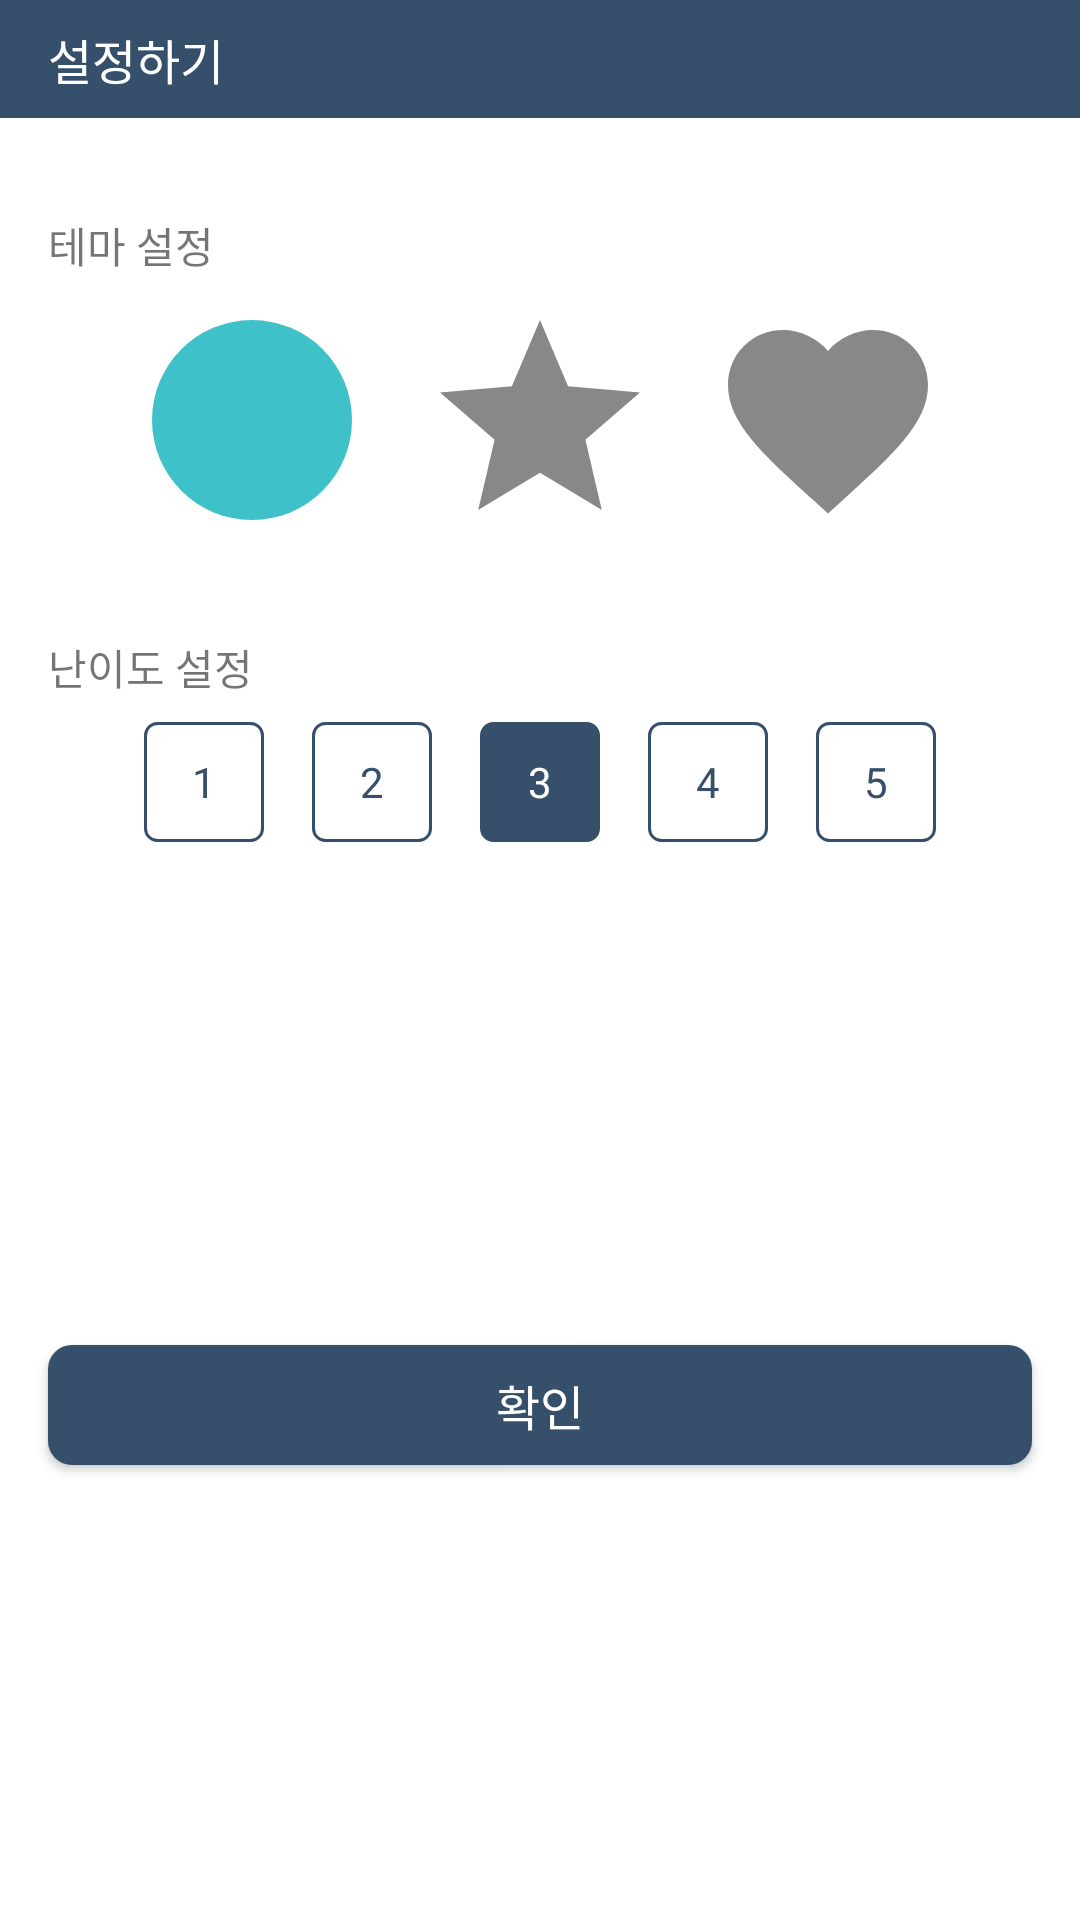

Icons on this 1080px×1920px Android screen, each with its box as [x1,y1,x2,y2]:
favorite: [728,330,928,513]
star: [440,320,640,510]
